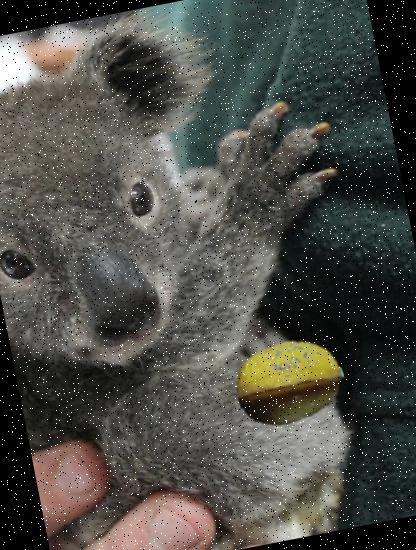Carambula: (226, 318, 354, 446)
